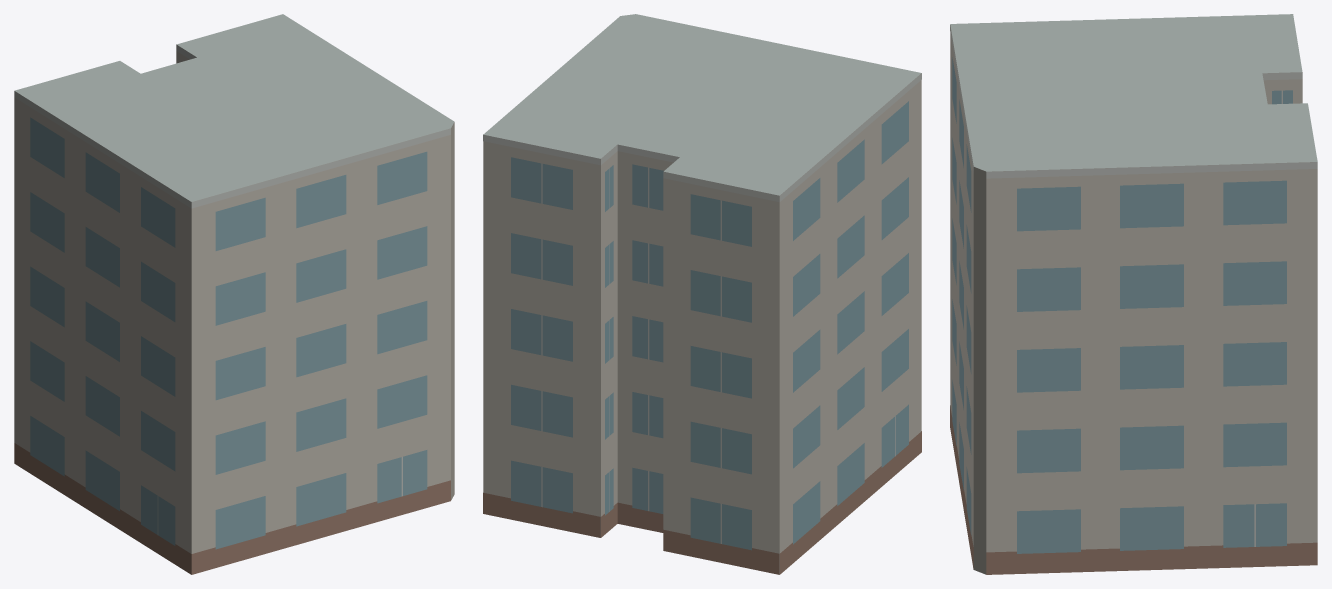
Rendered from survey-upis-32918014.glb.
3 renders of one model, left to right at view 1: azimuth 30°, elevation 25°; view 2: azimuth 150°, elevation 25°; view 3: azimuth 270°, elevation 25°, orthographic. The views are drawn at different scales.
Visible parts, largest first — view 1: survey-upis-32918014.tmp; view 2: survey-upis-32918014.tmp; view 3: survey-upis-32918014.tmp.
Part boxes in pixels (x1,y1,x2,y2): survey-upis-32918014.tmp: [14, 14, 454, 574]; survey-upis-32918014.tmp: [483, 14, 921, 574]; survey-upis-32918014.tmp: [950, 14, 1317, 574].
Bounding box in the file's own units: 11.79 × 14.05 × 11.62.
